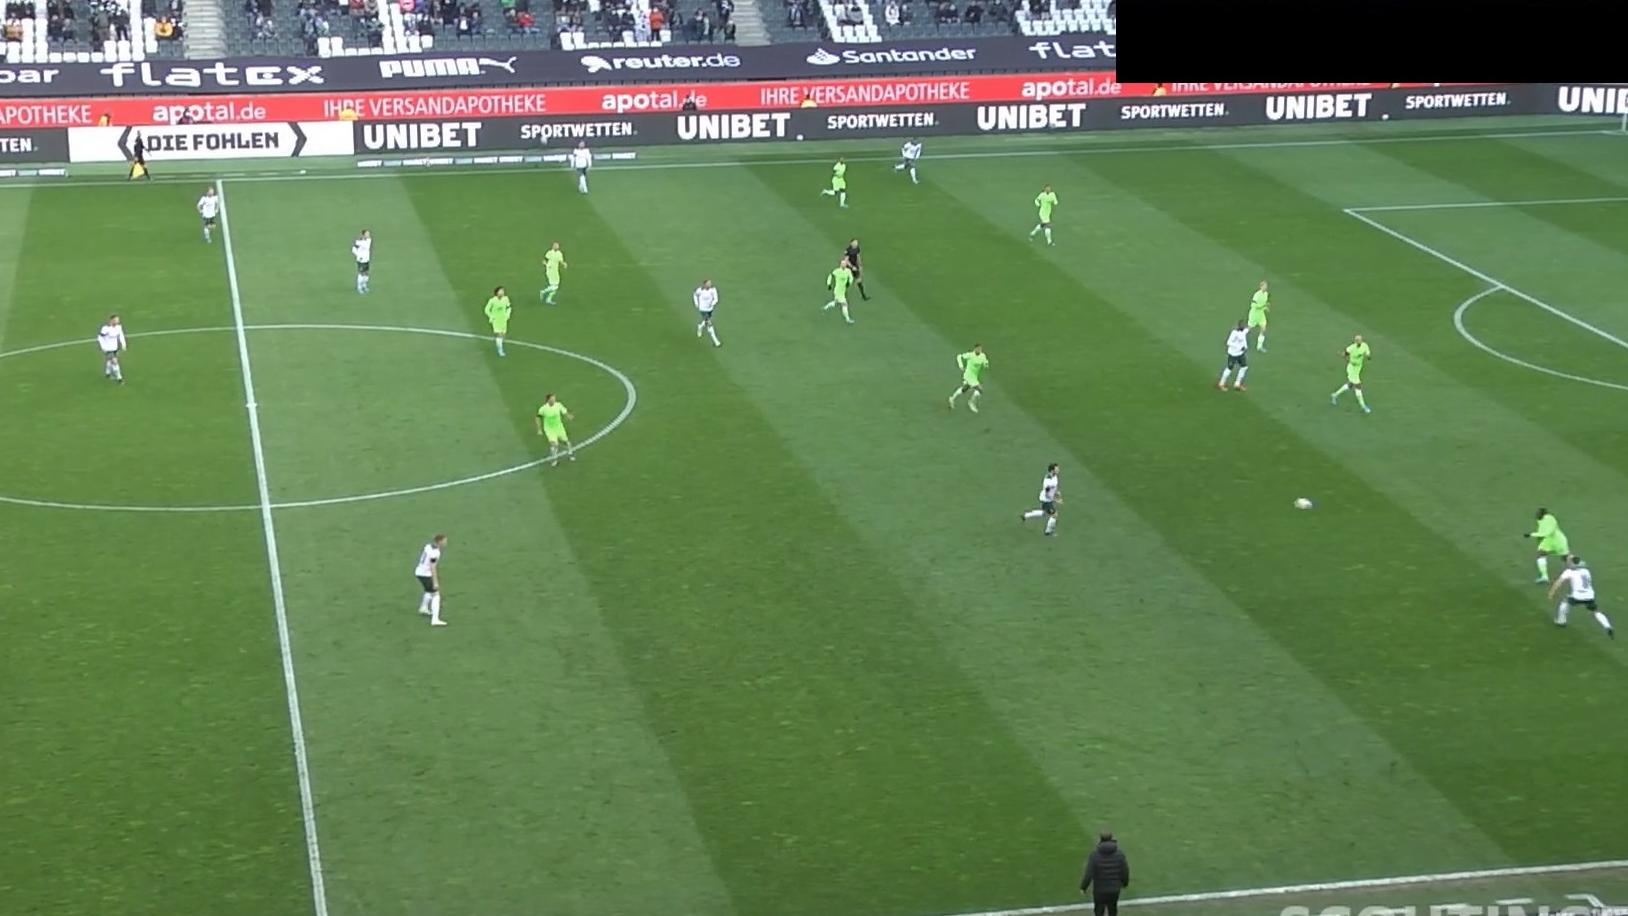ball: (1292, 495, 1315, 511)
